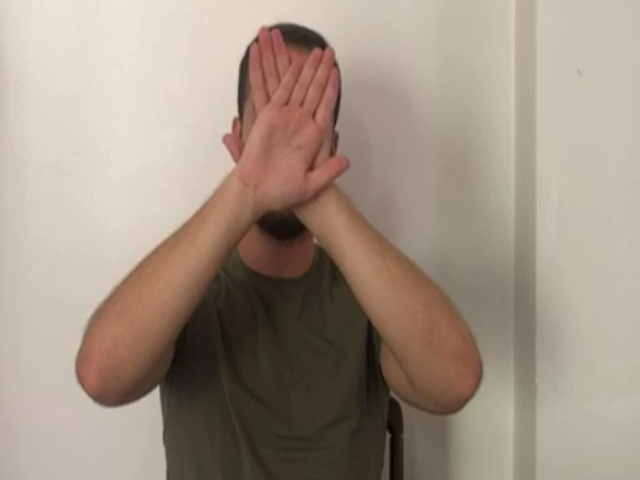Stemneto: (218, 23, 350, 216)
